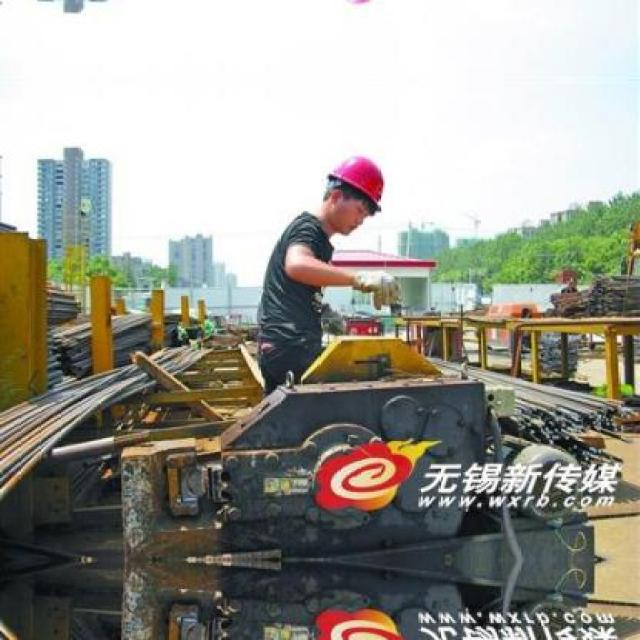helmet: (312, 144, 392, 240)
